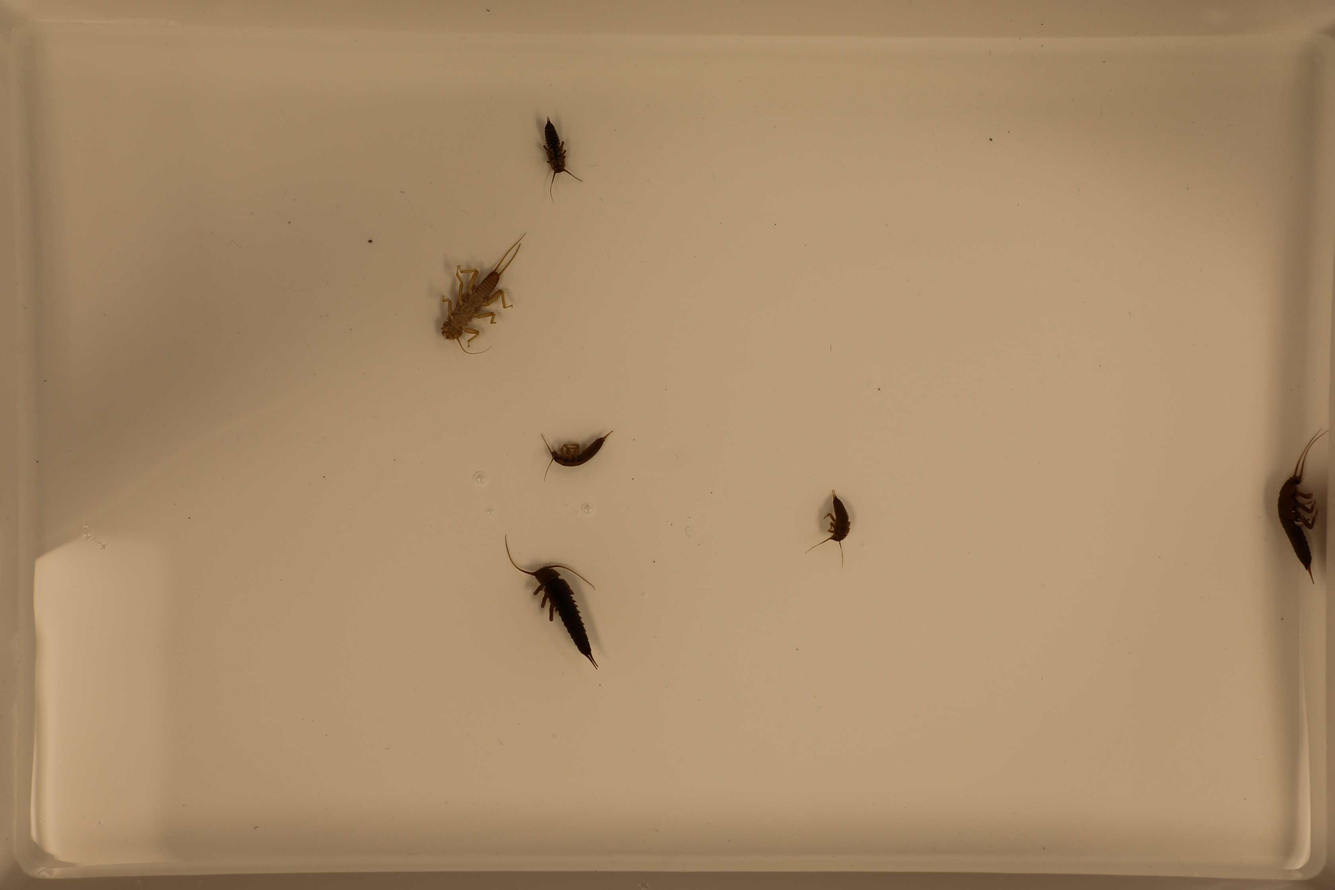Stonefly: (502, 538, 601, 667), (428, 234, 527, 352), (1276, 431, 1326, 583), (537, 117, 588, 201), (817, 482, 854, 568), (542, 434, 613, 469)
